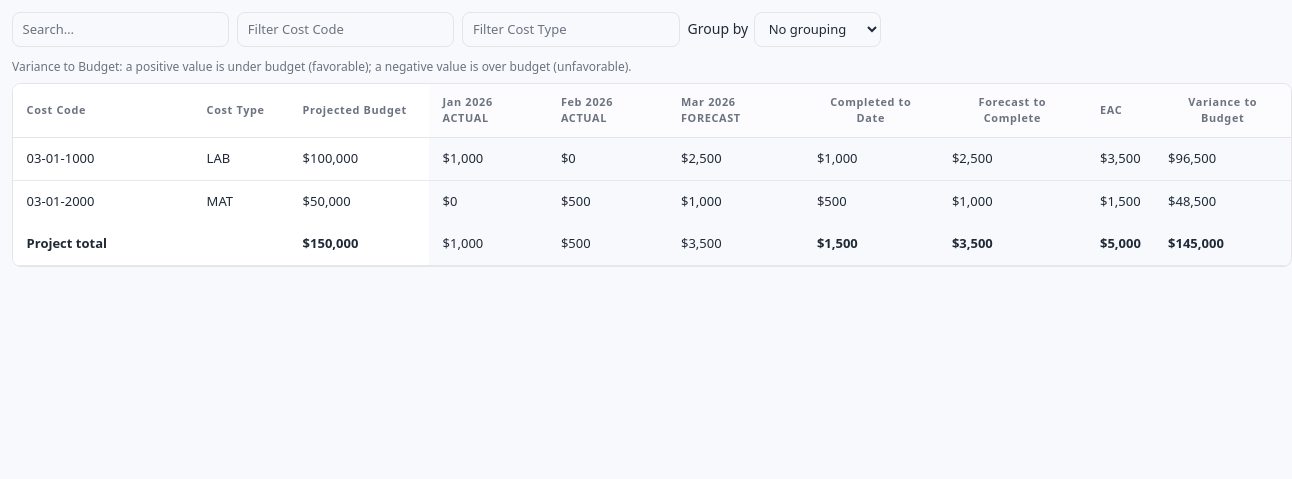
Scenario: ForecastMonthlyMatrixTable › collapses and expands a group, toggling child rows and the trailing subtotal row
Select "Cost Type" in the dropdown named "Group rows": (818, 29) [754,12,881,47]
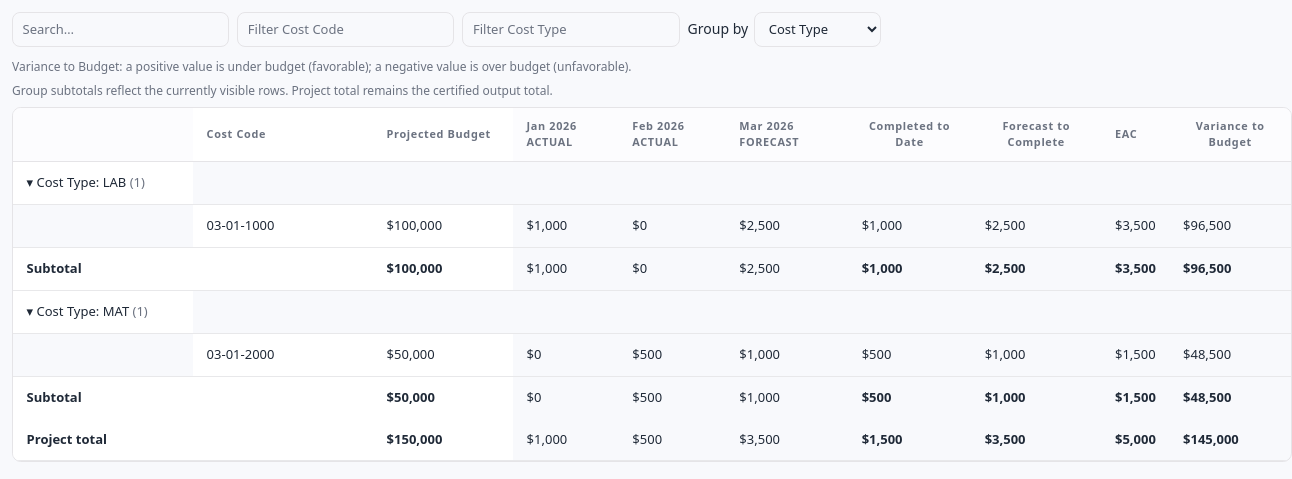
Expected: the text "03-01-1000" is shown, [207,216,274,234]
Result: the 1st text "Subtotal" is shown at [27,259,82,277]
Click the button "▾ Cost Type: LAB (1)": click(86, 183) [27,173,145,193]
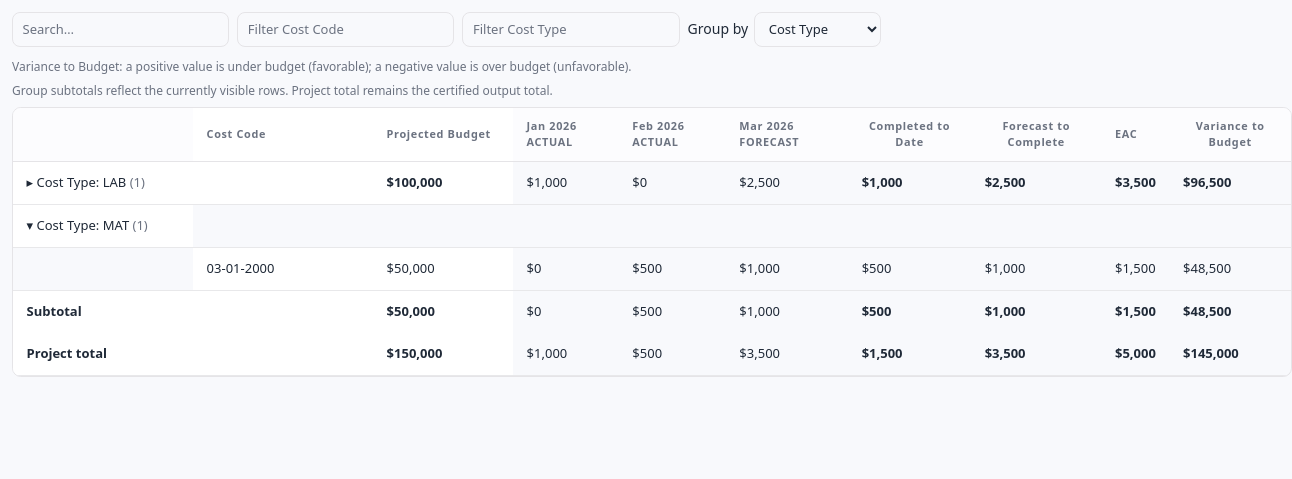
Result: the text "Cost Type: LAB" is shown at [36,173,126,191]
Result: the text "03-01-1000" is gone
